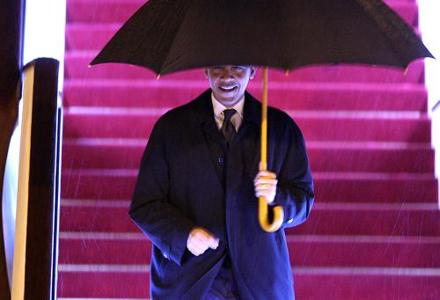person: (128, 66, 314, 300)
